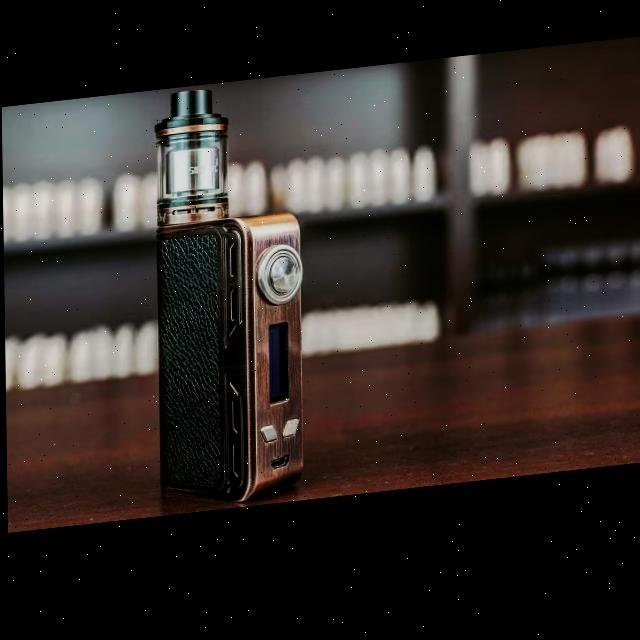vape: (153, 84, 305, 515)
